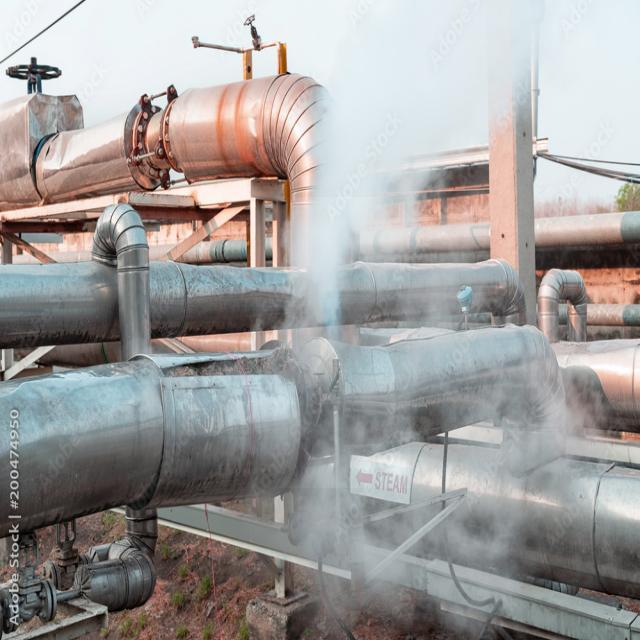corrosion: (262, 153, 353, 410)
